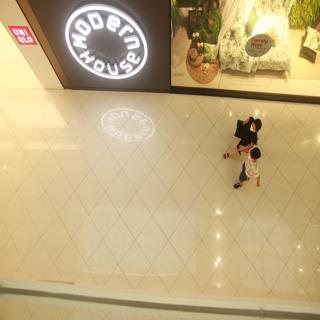person: (233, 143, 268, 199), (227, 110, 266, 148)
